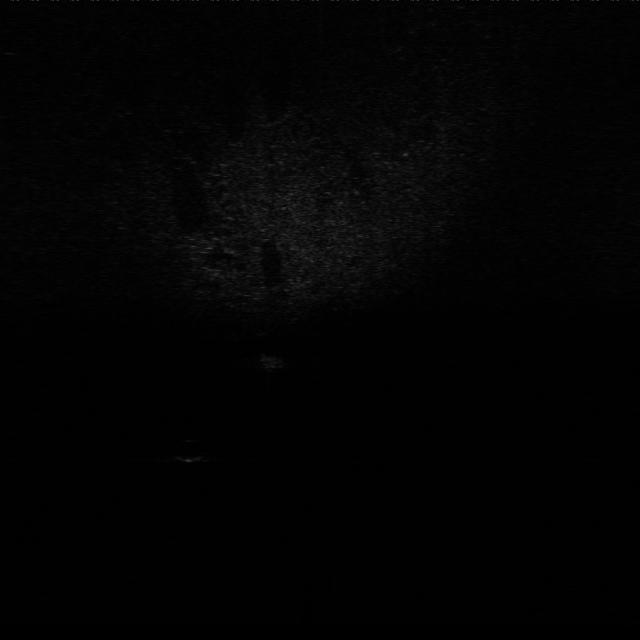ball: (176, 434, 210, 465)
cube: (260, 351, 290, 373)
